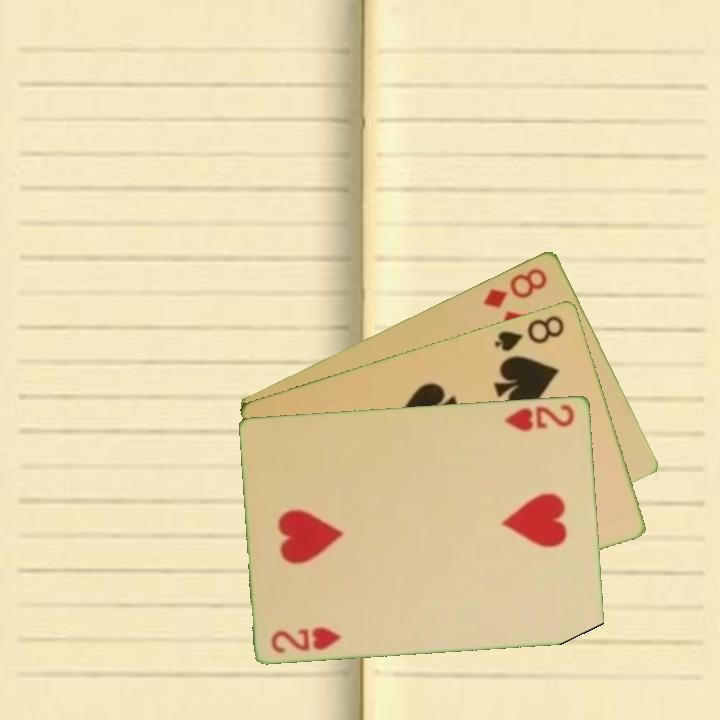2h: (501, 400, 578, 434), (268, 623, 346, 655)
8d: (480, 264, 551, 311)
8s: (490, 311, 568, 354)
